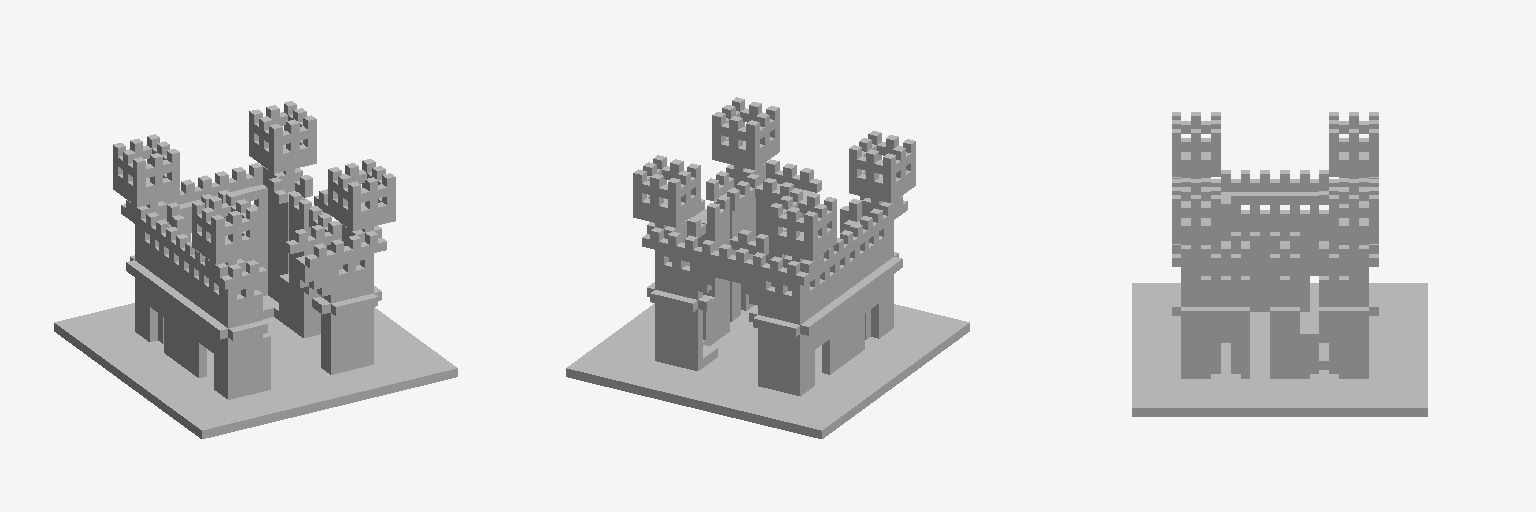
File: castle.obj
The picture shows the model from 3 angles: view 1: azimuth 30°, elevation 25°; view 2: azimuth 150°, elevation 25°; view 3: azimuth 270°, elevation 25°; orthographic projection.
Size of the model in its own units: 30 by 22 by 30.